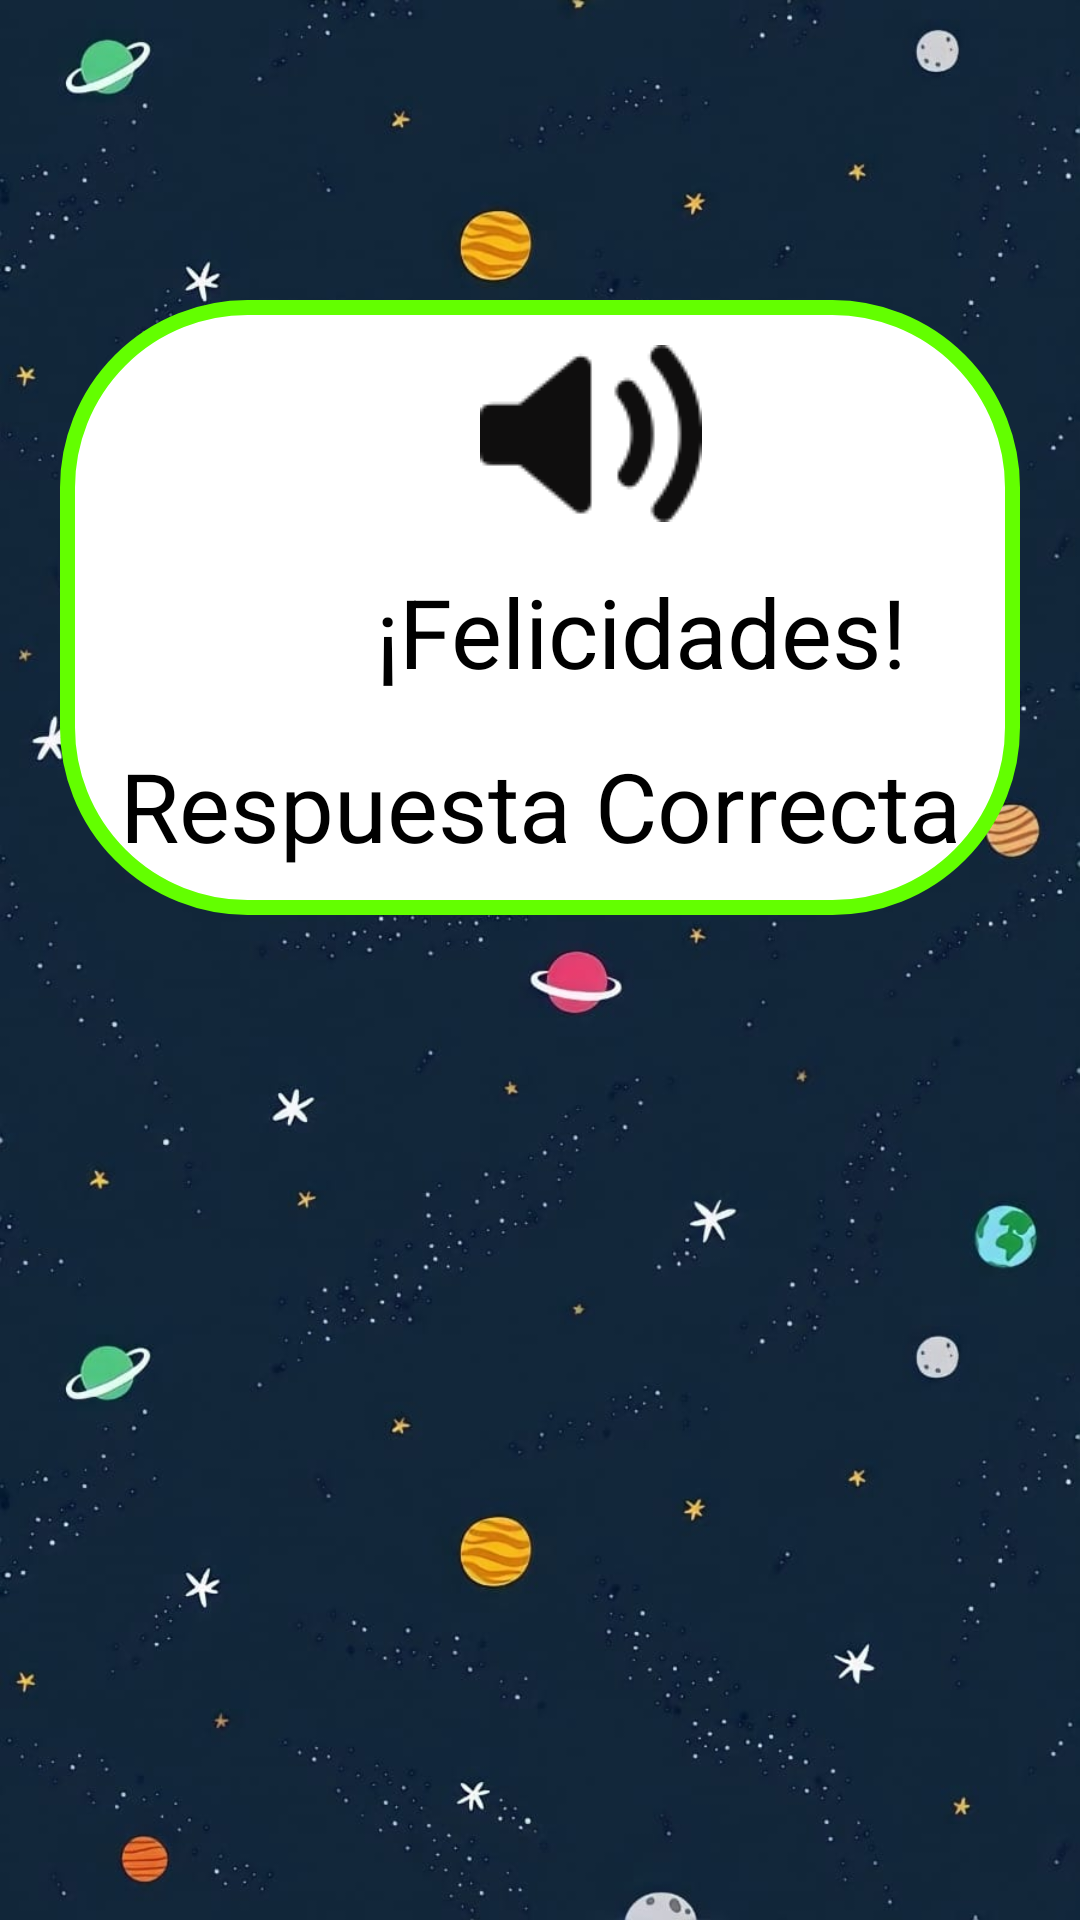

Icon click points for this 1080px x 1920px phone screenshot, format [x,y]:
audio negro: [591,433]
